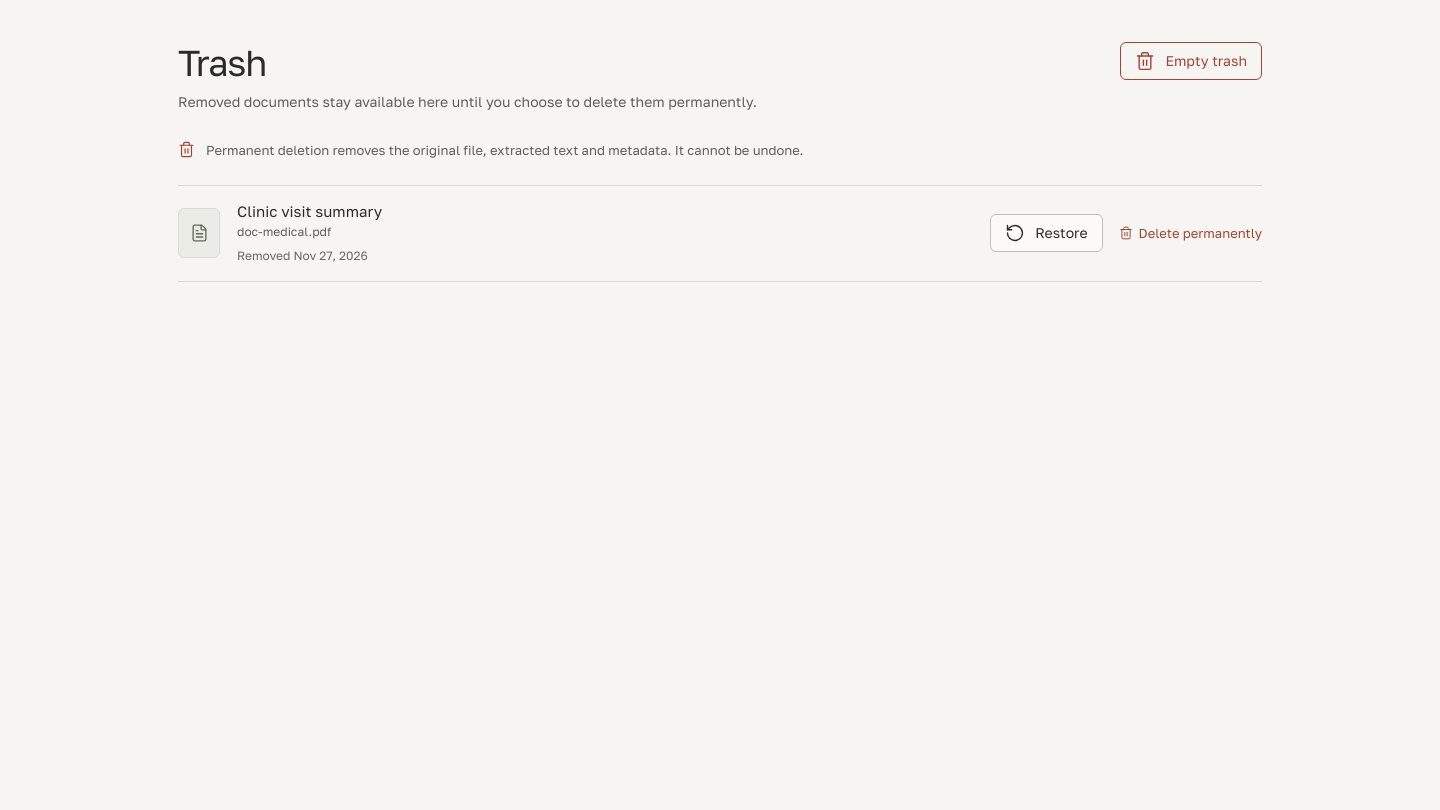
Test: TrashPage › purges a document with confirmation that does not repeat title in description
Later steps or results of the test are not shown.
What coordinates should you click on to do the following:
click the button "Delete permanently"
I would click on:
 (1190, 233)
Its box is [1119, 217, 1262, 249].
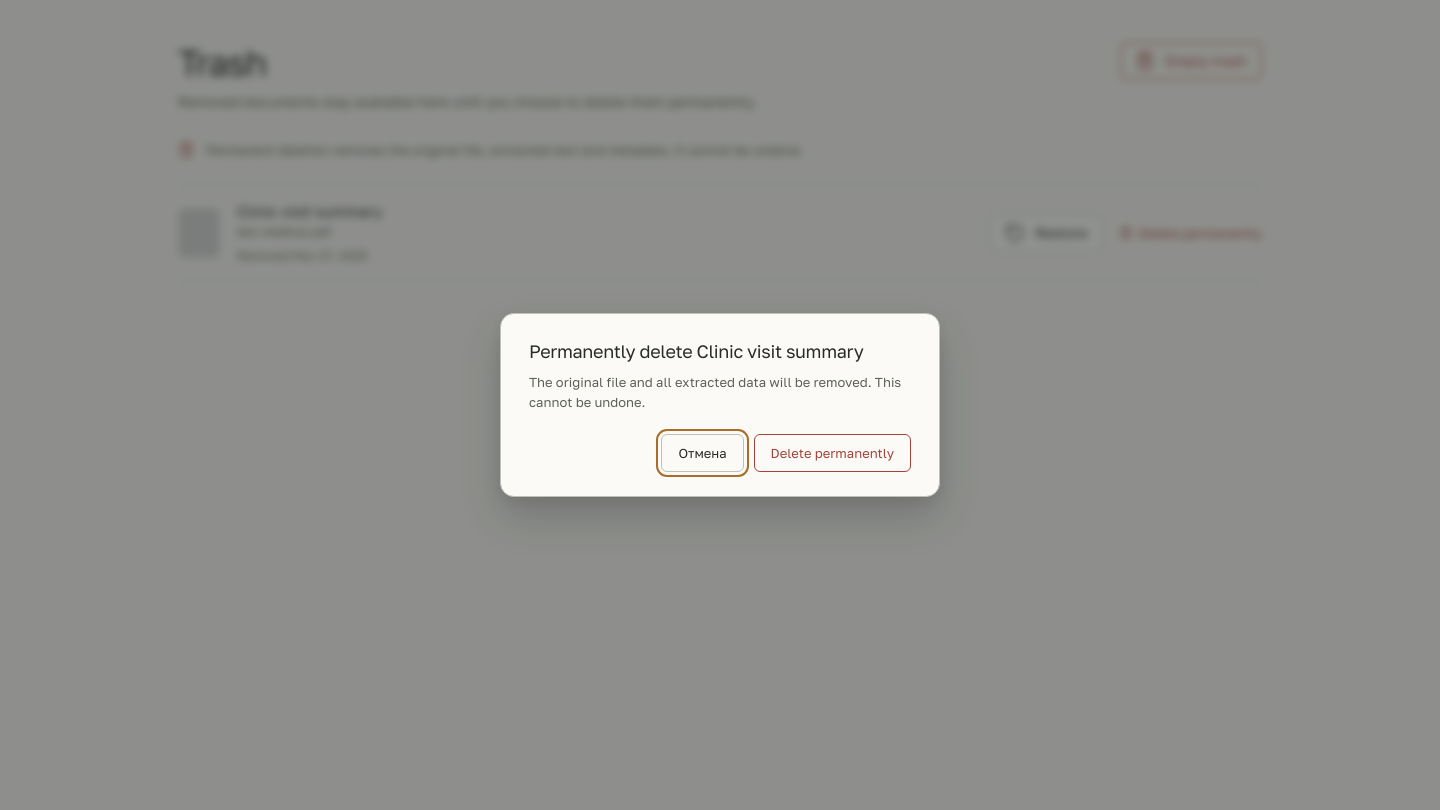
Check: the dialog with class "confirm-dialog" is shown, box [500, 313, 940, 497]
Check: the heading with id "confirm-dialog-title" shows "Clinic visit summary", box [529, 340, 864, 362]
Check: the text with id "confirm-dialog-desc" reads "The original file and all extracted data will be removed. This cannot be undone.", box [529, 374, 901, 410]
